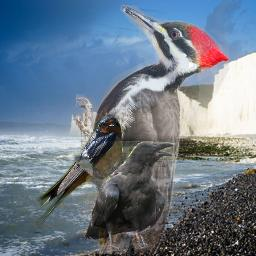Crow: (83, 141, 175, 251)
Swallow: (36, 116, 123, 226)
Woodpecker: (76, 2, 229, 254)
